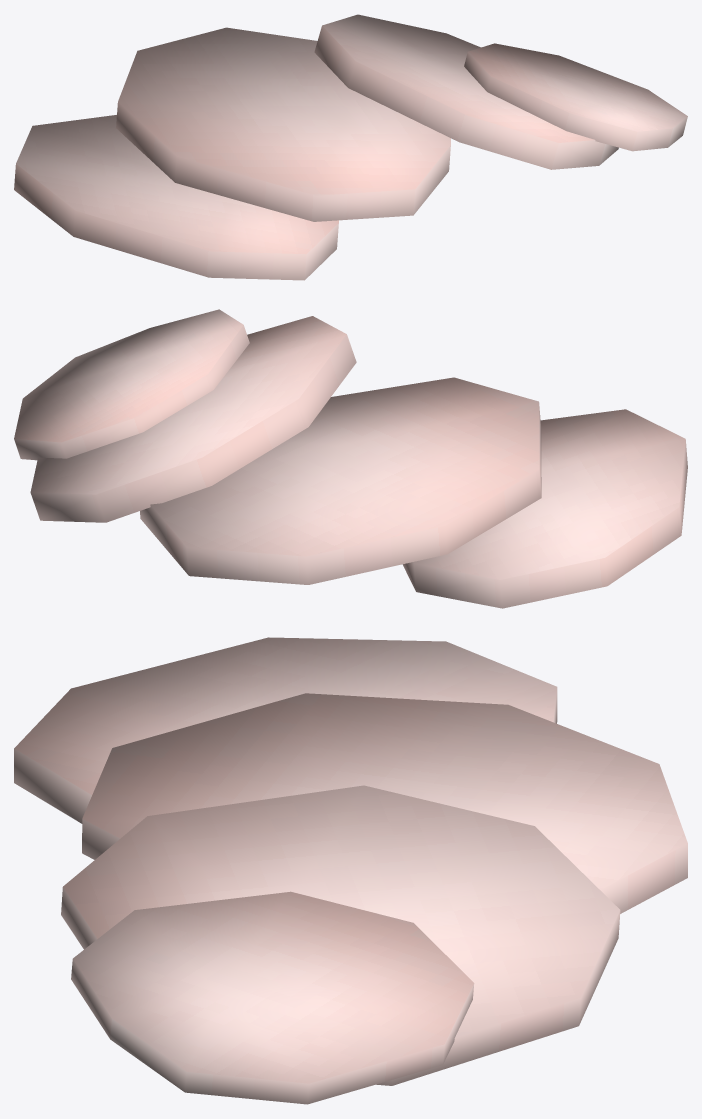
Rendered from Sliced_Tomato.fbx.
The picture shows the model from 3 angles, top to bottom: view 1: azimuth 30°, elevation 25°; view 2: azimuth 150°, elevation 25°; view 3: azimuth 270°, elevation 25°; orthographic projection. The views are drawn at different scales.
Visible parts, largest first — view 1: SlicedFood.005; view 2: SlicedFood.005; view 3: SlicedFood.005.
Boxes of the visible parts, left/top/right/bottom form: SlicedFood.005: left=14, top=14, right=687, bottom=280; SlicedFood.005: left=14, top=309, right=687, bottom=608; SlicedFood.005: left=14, top=637, right=687, bottom=1104.
Size of the model in its own units: 29.33 by 5.21 by 20.81.
